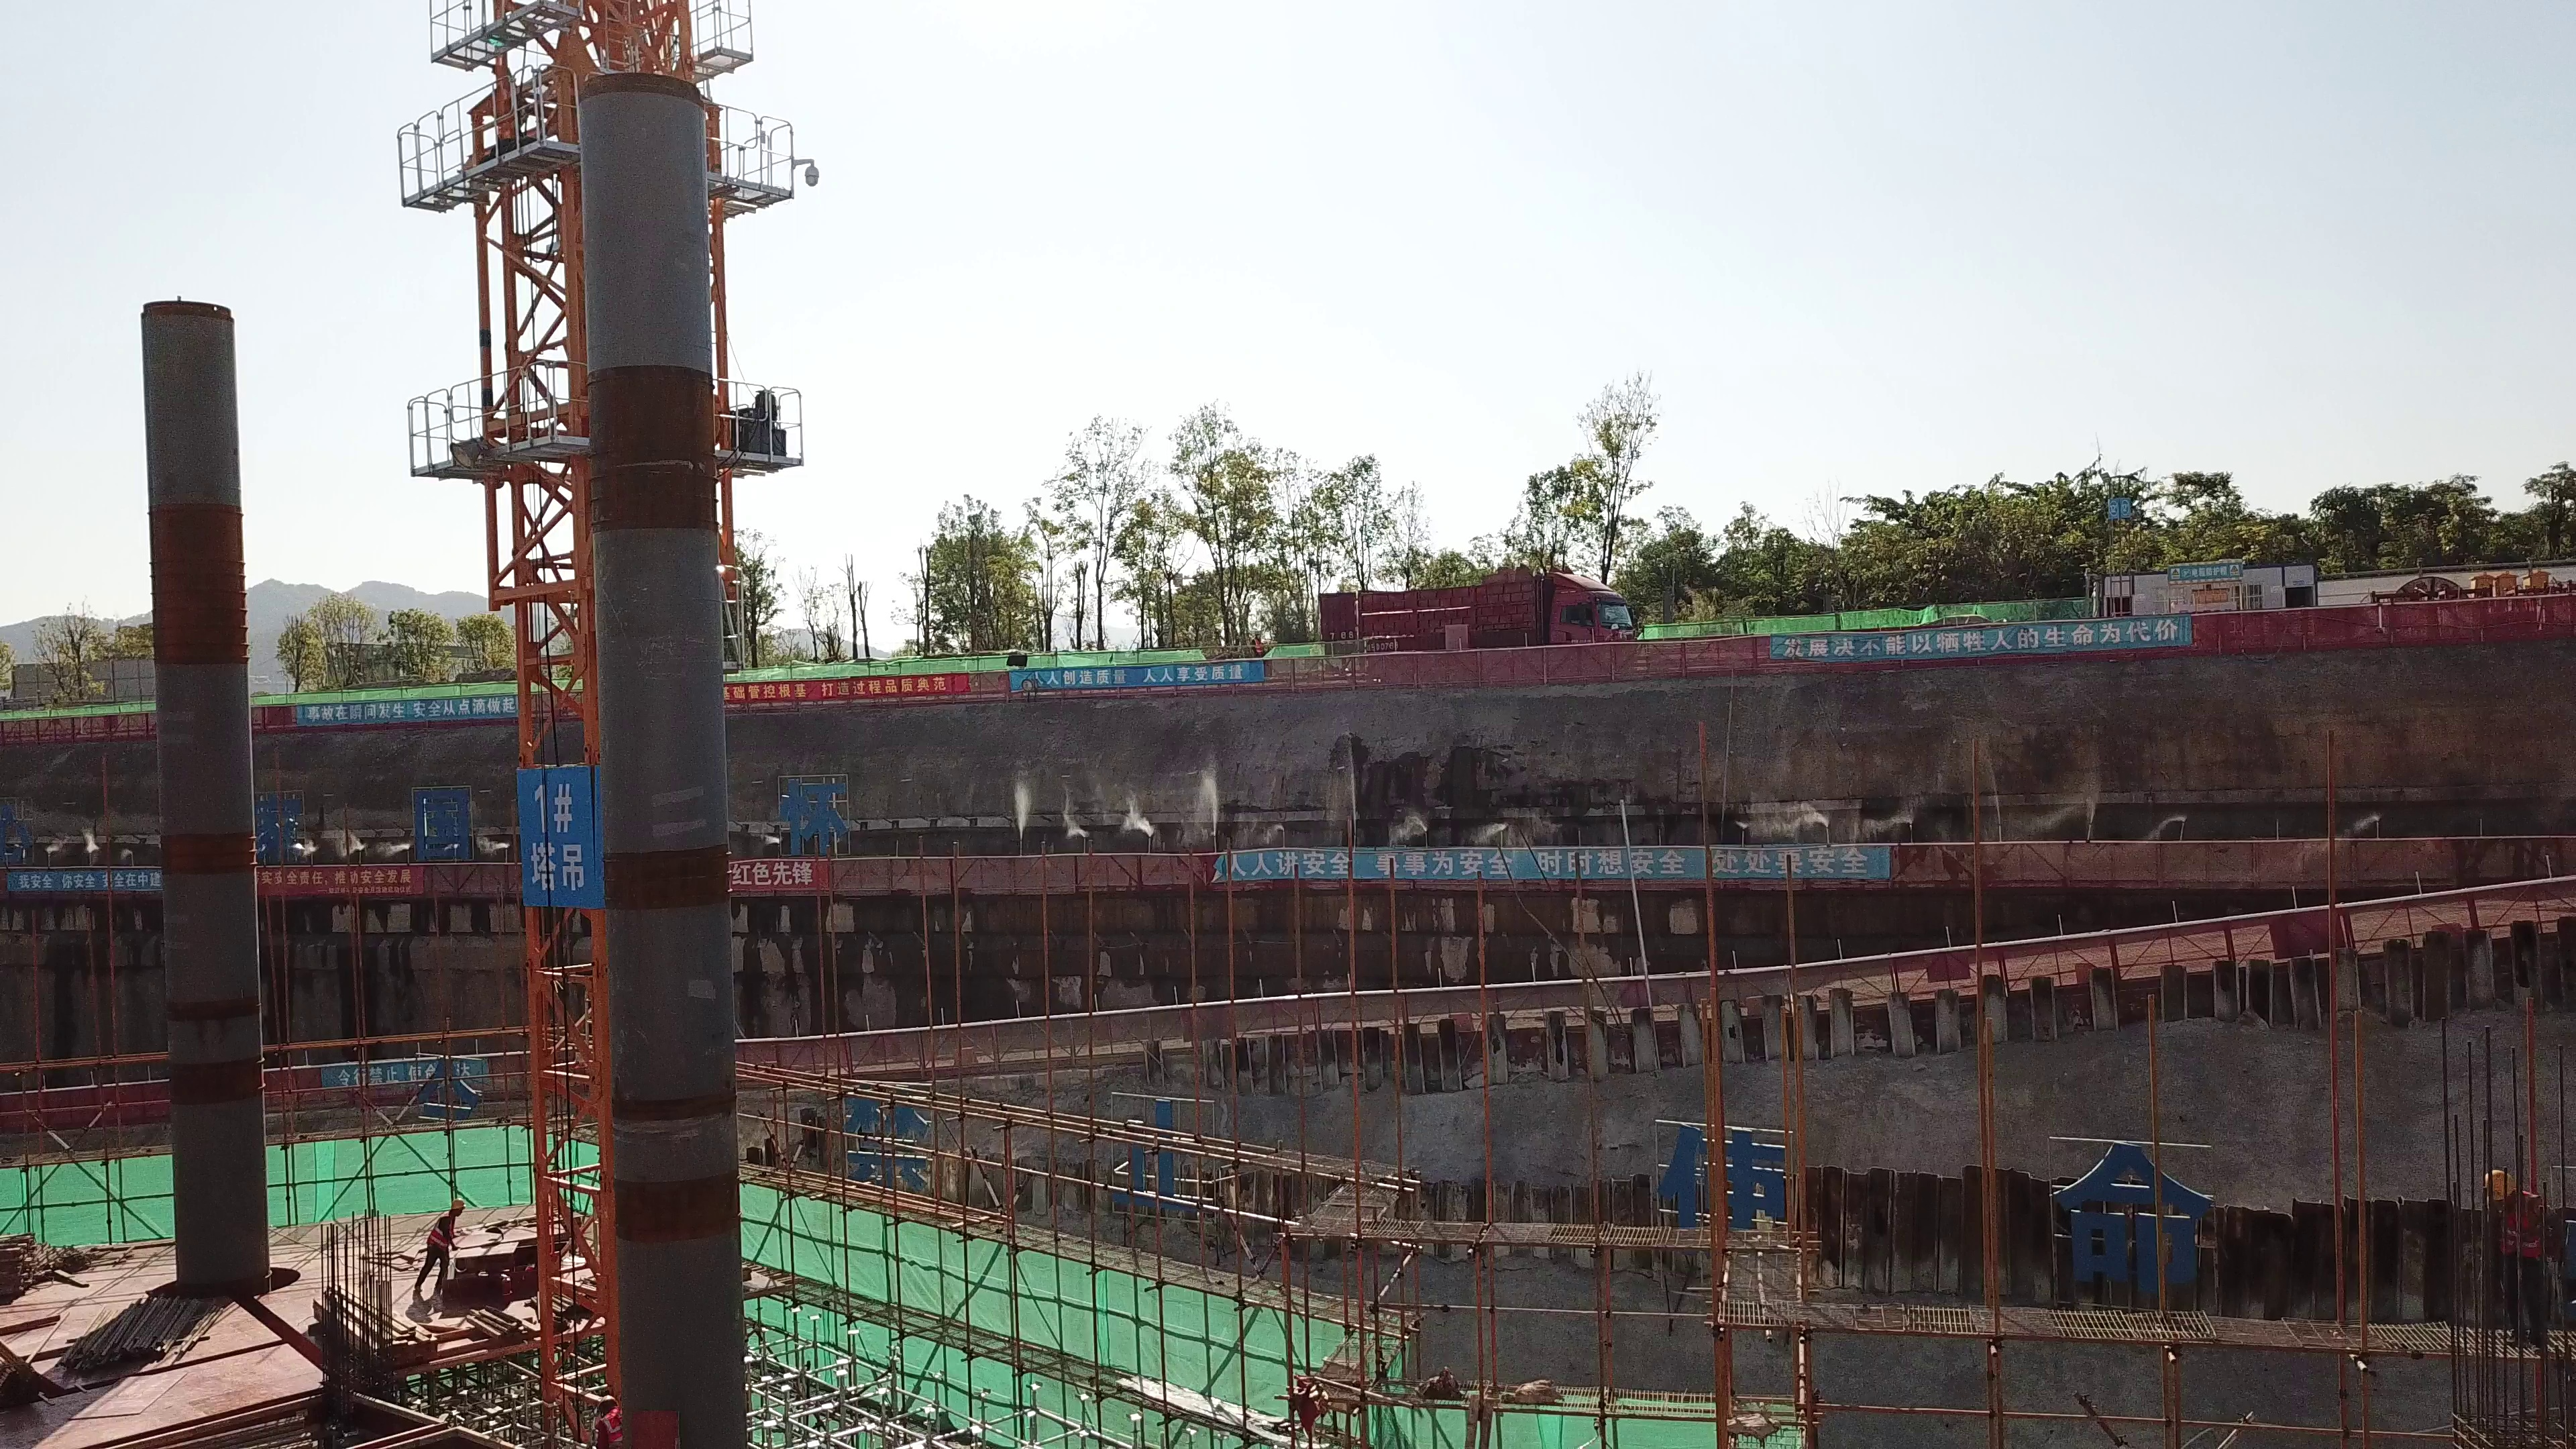fence: (1905, 828, 2552, 885), (1263, 635, 1762, 693), (2202, 590, 2573, 661), (2237, 889, 2477, 973), (834, 851, 1216, 900), (2006, 925, 2235, 996), (1797, 949, 2004, 1010)
helmet: (2480, 1169, 2519, 1199), (449, 1196, 468, 1208)
person: (2479, 1169, 2560, 1350), (411, 1197, 468, 1307), (591, 1392, 626, 1449)
slogan: (1215, 832, 1883, 890), (1769, 609, 2197, 659), (294, 690, 517, 735), (1007, 656, 1264, 693), (724, 669, 961, 708), (254, 863, 428, 897), (6, 863, 170, 896), (732, 859, 833, 894)
vest: (2493, 1197, 2540, 1254), (423, 1212, 453, 1249)
